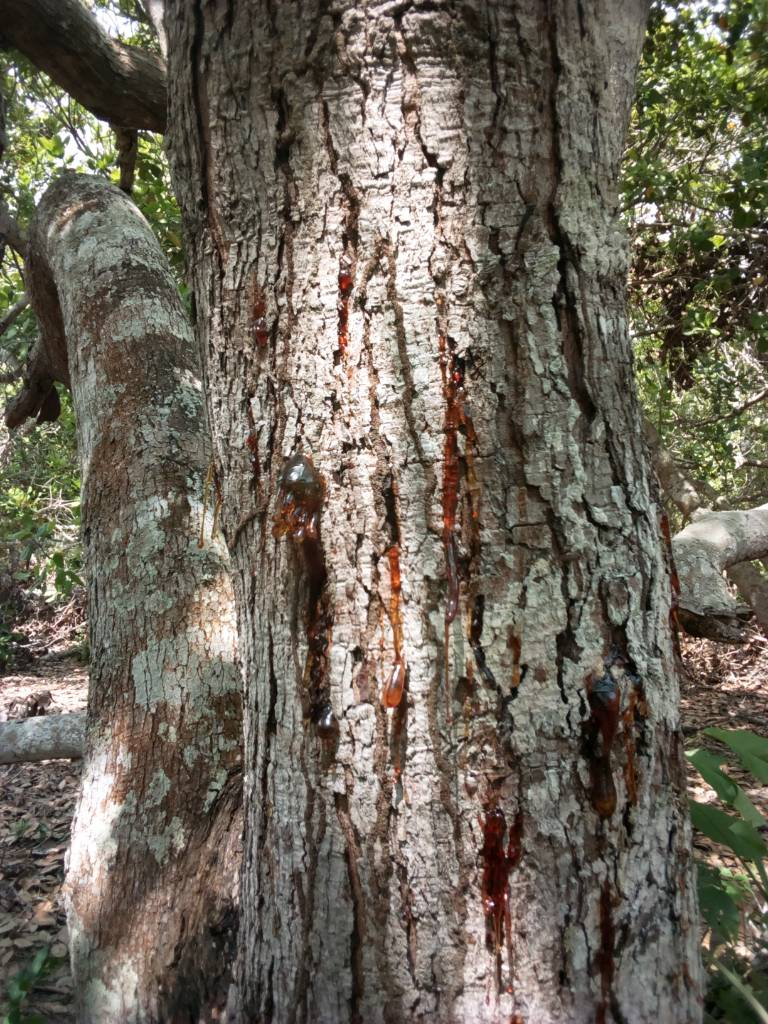ploceadorus ferrugineus: (243, 320, 687, 944)
